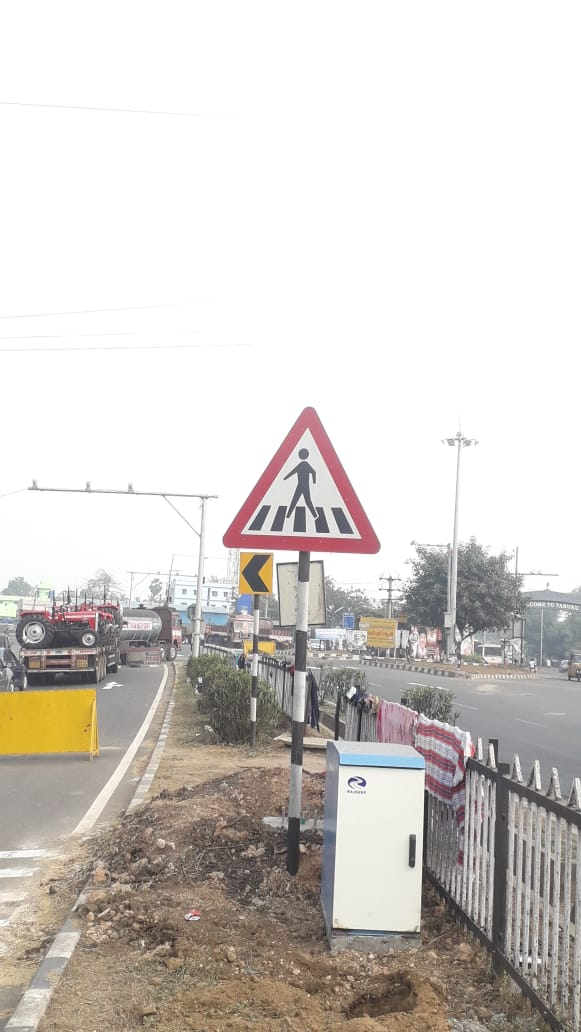pedestrian crossing: (225, 395, 411, 564)
